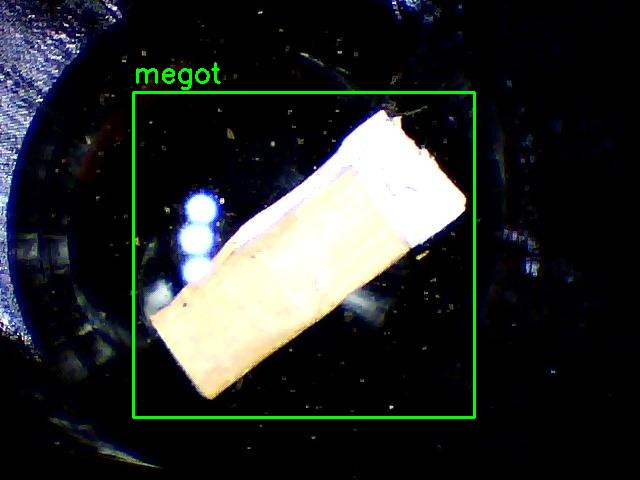megot: (133, 92, 474, 417)
